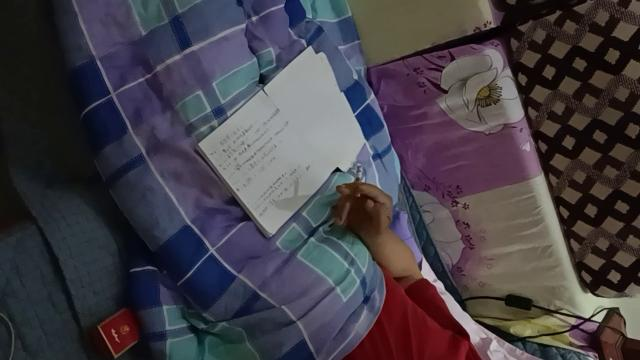Cigarette: (354, 166, 362, 196)
